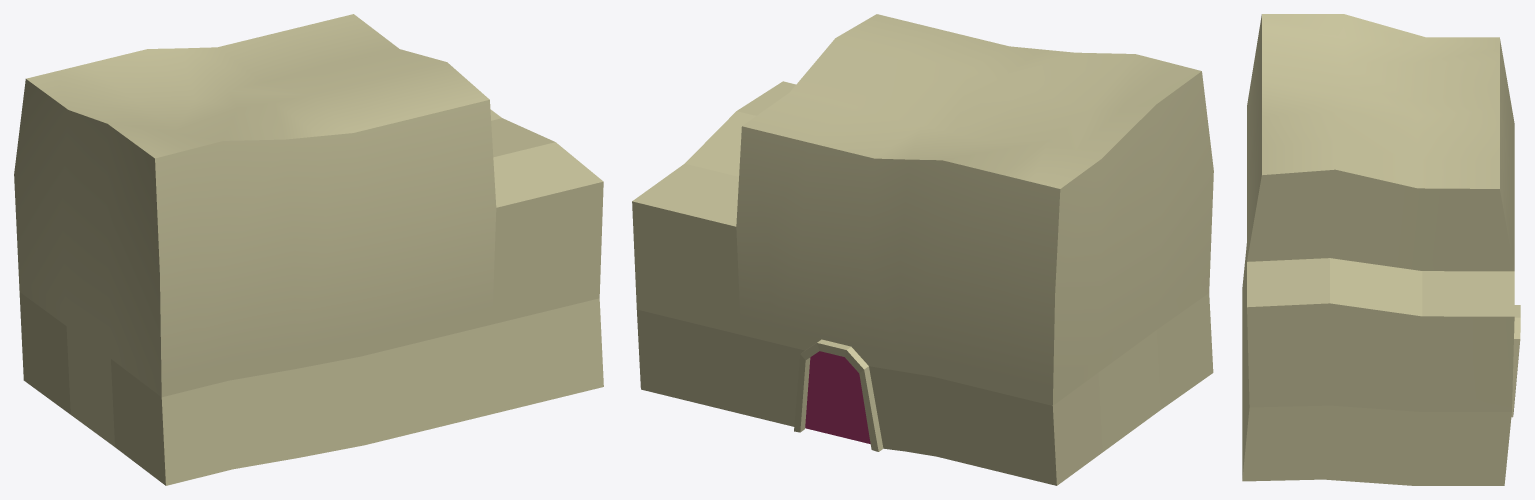
Rendered from hut2.fbx.
3 renders of one model, left to right at view 1: azimuth 30°, elevation 25°; view 2: azimuth 150°, elevation 25°; view 3: azimuth 270°, elevation 25°, orthographic. The views are drawn at different scales.
Parts seen in each view (by area): view 1: pasted__pCube1; view 2: pasted__pCube1; view 3: pasted__pCube1.
Part boxes in pixels (x1=…): pasted__pCube1: x1=14, y1=14, x2=603, y2=485; pasted__pCube1: x1=632, y1=14, x2=1213, y2=485; pasted__pCube1: x1=1242, y1=14, x2=1520, y2=485.
Bounding box in the file's own units: 20.9 × 14.96 × 13.11.
